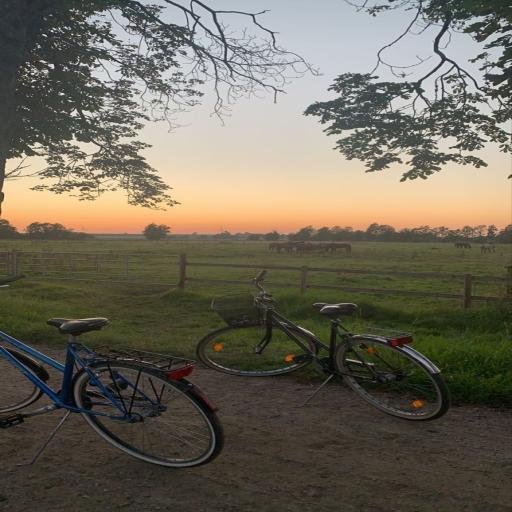bag: (0, 275, 224, 467), (196, 270, 450, 420)
